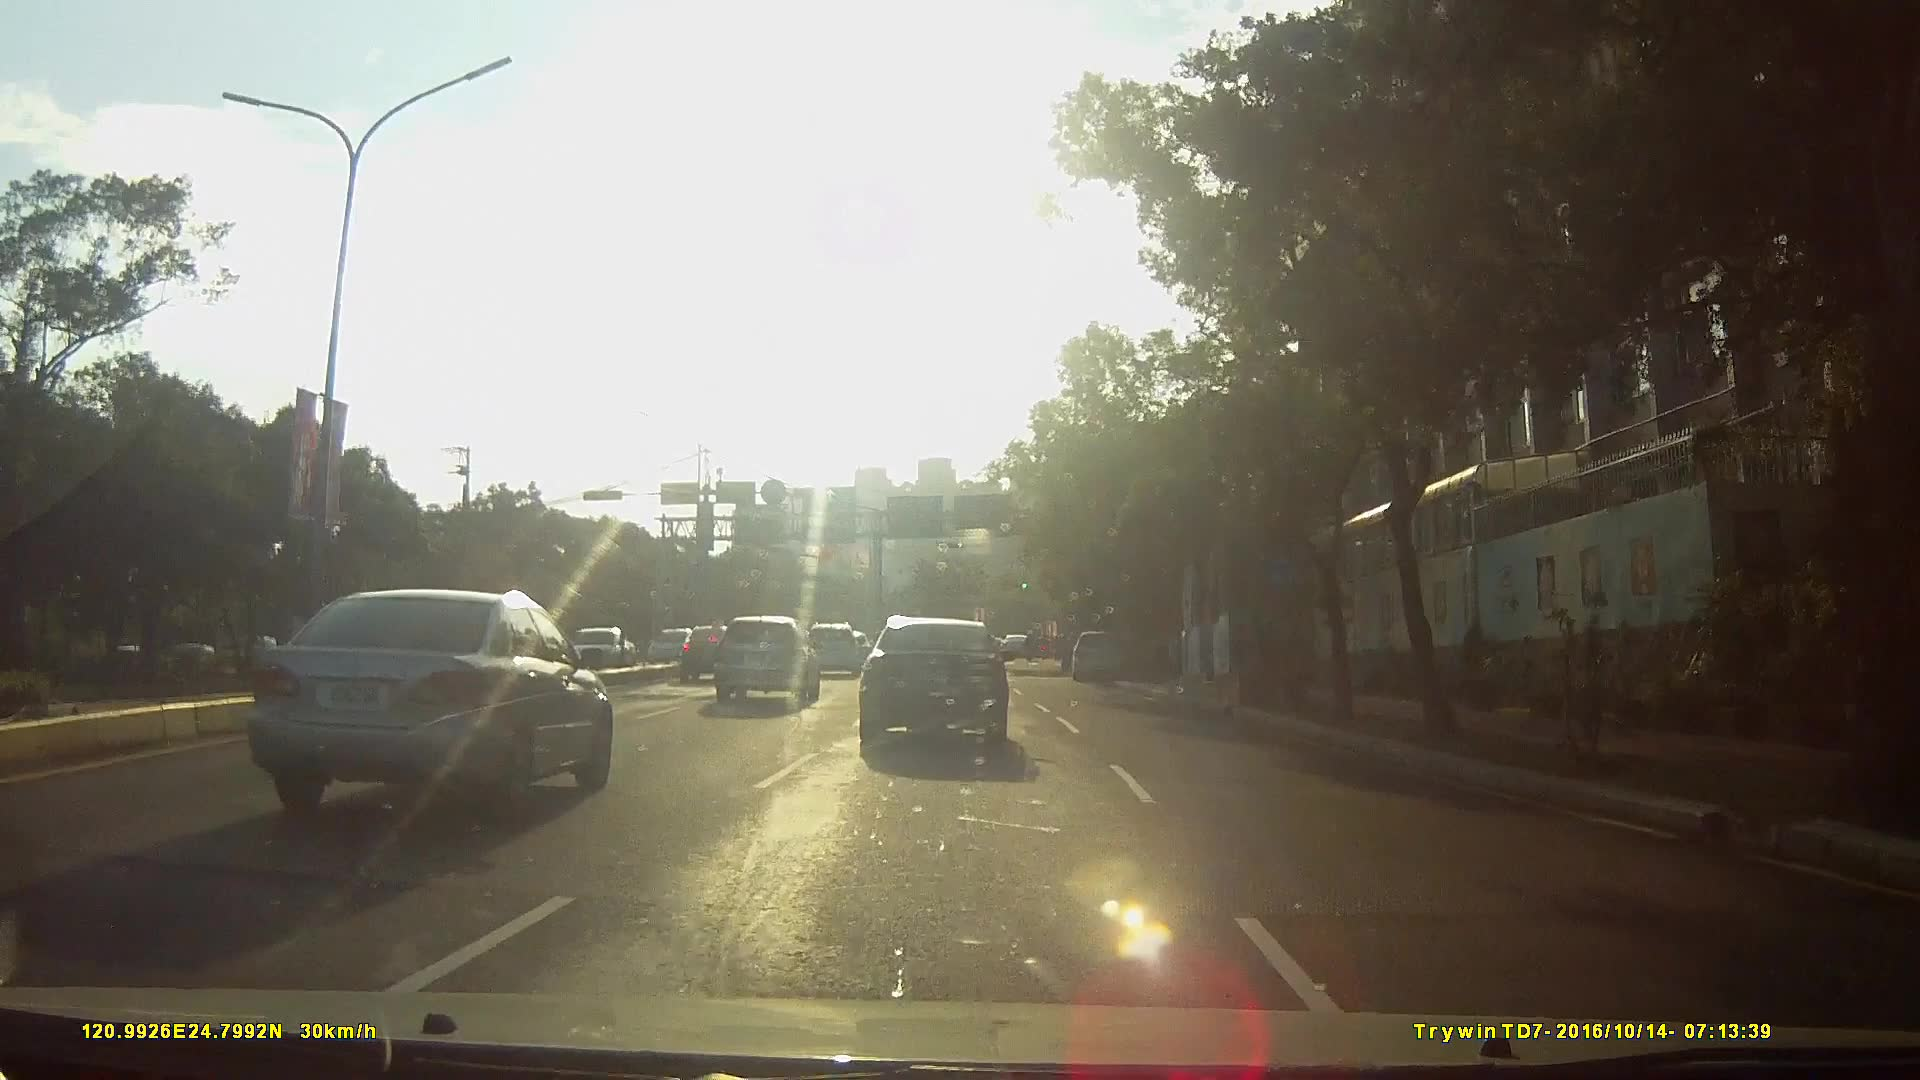vehicle: (225, 580, 626, 829), (857, 608, 1034, 760), (711, 613, 820, 707), (555, 618, 644, 674), (665, 620, 736, 680), (800, 621, 862, 678), (1068, 628, 1127, 680), (645, 626, 702, 666)
